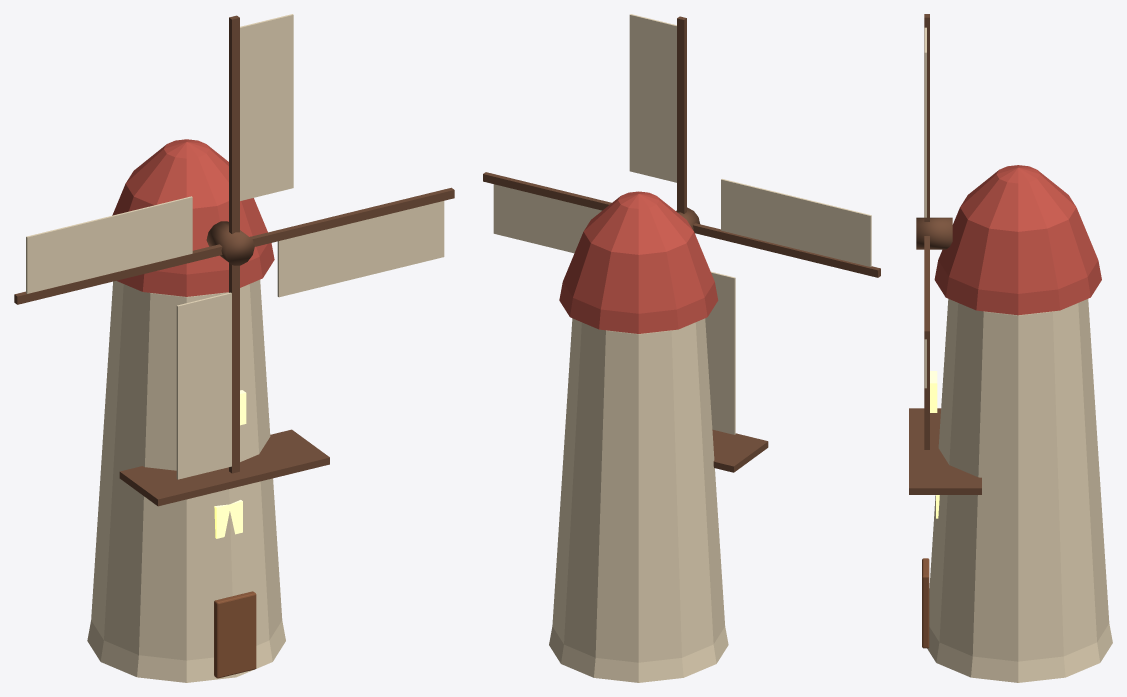
Rendered from windmill.glb.
3 renders of one model, left to right at view 1: azimuth 30°, elevation 25°; view 2: azimuth 150°, elevation 25°; view 3: azimuth 270°, elevation 25°, orthographic. The views are drawn at different scales.
Parts seen in each view (by area): view 1: tower, cap, cloth-2, cloth-3, cloth-1, cloth-0, balcony, door, arm-1, arm-0, arm-3, arm-2 (+2 smaller); view 2: tower, cap, cloth-3, cloth-0, cloth-1, cloth-2, arm-0, arm-3, balcony, arm-1; view 3: tower, cap, balcony, hub, arm-0, door, arm-1, cloth-0, arm-2, window-3.8.
Part boxes in pixels (bbox=[...]): tower: bbox=[87, 279, 285, 682]; cap: bbox=[112, 139, 274, 296]; cloth-2: bbox=[176, 292, 231, 479]; cloth-3: bbox=[26, 196, 192, 293]; cloth-1: bbox=[277, 201, 444, 297]; cloth-0: bbox=[240, 14, 293, 200]; balcony: bbox=[119, 429, 329, 506]; door: bbox=[214, 591, 256, 678]; arm-1: bbox=[250, 187, 454, 246]; arm-0: bbox=[229, 15, 239, 233]; arm-3: bbox=[14, 244, 222, 304]; arm-2: bbox=[229, 263, 239, 473]; tower: bbox=[549, 318, 728, 682]; cap: bbox=[559, 191, 718, 333]; cloth-3: bbox=[721, 179, 871, 266]; cloth-0: bbox=[629, 14, 676, 182]; cloth-1: bbox=[493, 184, 601, 253]; cloth-2: bbox=[705, 271, 735, 434]; arm-0: bbox=[677, 16, 686, 213]; arm-3: bbox=[693, 223, 880, 277]; balcony: bbox=[712, 429, 768, 472]; arm-1: bbox=[483, 172, 611, 210]; tower: bbox=[927, 299, 1112, 682]; cap: bbox=[934, 165, 1101, 315]; balcony: bbox=[909, 408, 981, 494]; hub: bbox=[916, 217, 952, 249]; arm-0: bbox=[924, 14, 929, 221]; door: bbox=[922, 558, 929, 648]; arm-1: bbox=[924, 236, 929, 339]; cloth-0: bbox=[924, 27, 926, 217]; arm-2: bbox=[924, 339, 929, 449]; window-3.8: bbox=[930, 371, 937, 412].
Bounding box in the file's own units: 6.6 × 9.5 × 2.8.
